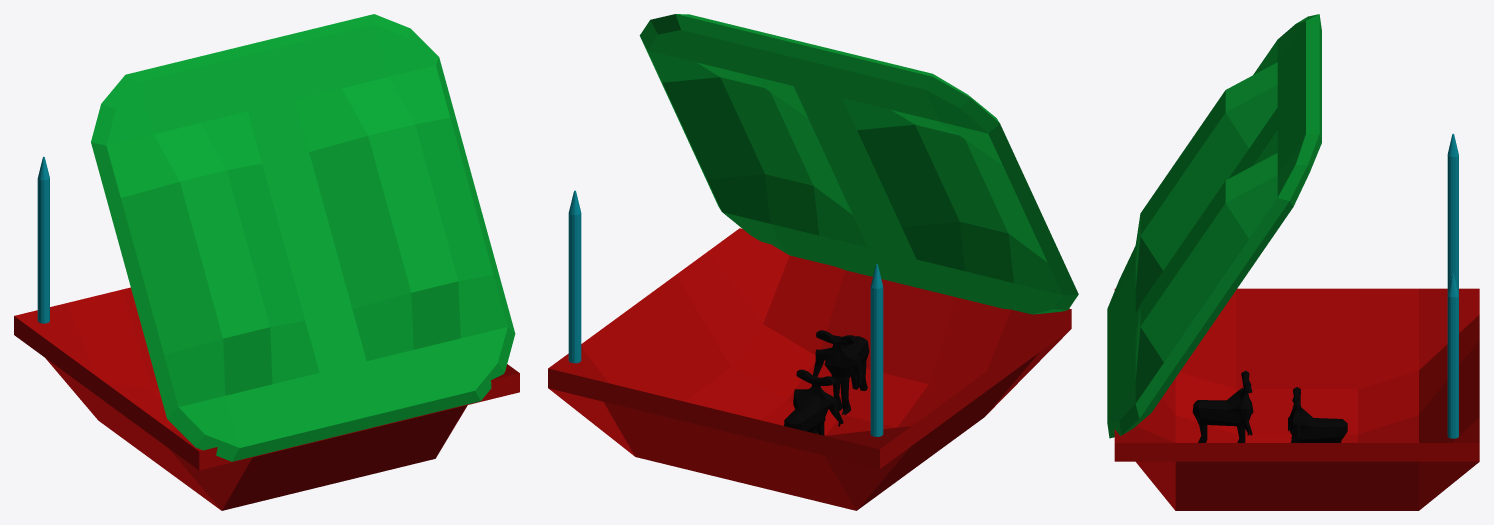
File: HoundPit.obj
The picture shows the model from 3 angles, left to right: view 1: azimuth 30°, elevation 25°; view 2: azimuth 150°, elevation 25°; view 3: azimuth 270°, elevation 25°; orthographic projection. The views are drawn at different scales.
Visible parts, largest first — view 1: Cube.001, Cube, Cube.002; view 2: Cube, Cube.001, Cube.005, Cube.003, Cube.002, Cube.004; view 3: Cube, Cube.001, Cube.005, Cube.003, Cube.004, Cube.002.
Boxes of the visible parts, x1,y1,x2,y2 form: Cube.001: (91, 14, 515, 461); Cube: (14, 287, 519, 510); Cube.002: (37, 156, 49, 323); Cube: (548, 228, 1071, 510); Cube.001: (639, 14, 1078, 314); Cube.005: (813, 330, 869, 415); Cube.003: (568, 190, 581, 363); Cube.002: (870, 264, 883, 436); Cube.004: (784, 369, 843, 435); Cube: (1114, 288, 1479, 510); Cube.001: (1107, 14, 1321, 438); Cube.005: (1192, 370, 1253, 442); Cube.003: (1447, 274, 1458, 438); Cube.004: (1288, 387, 1347, 442); Cube.002: (1447, 133, 1458, 294).
Bounding box in the file's own units: 1.58 × 1.85 × 1.49.
